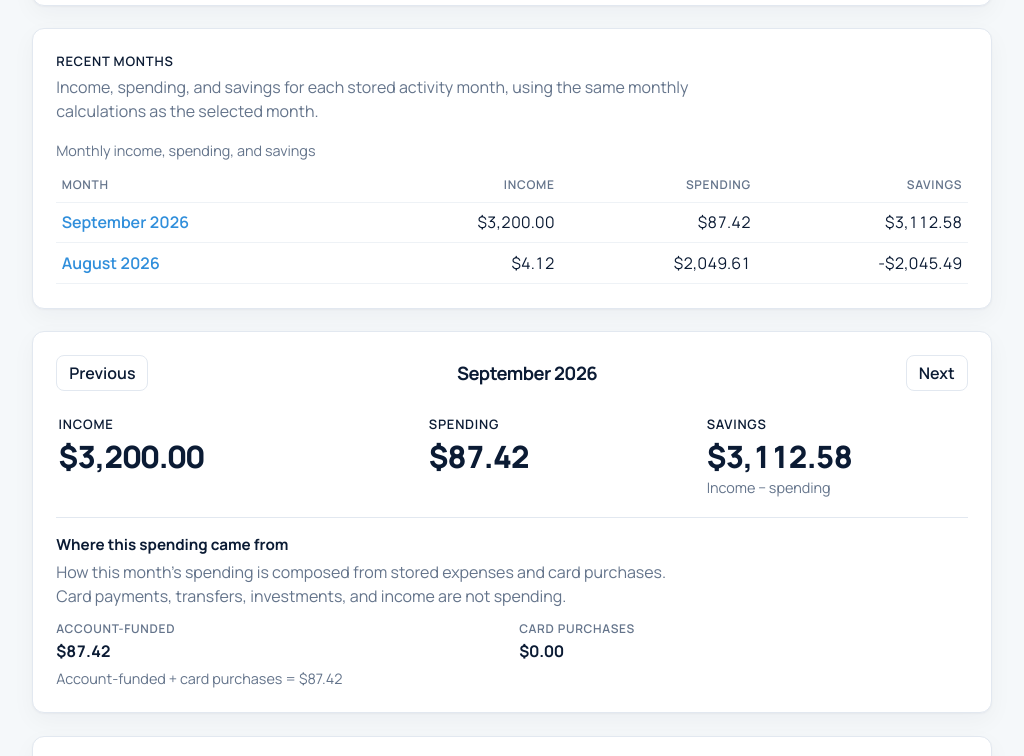
Test case: Finora spending view › moves to the next month and shows zeros when the month is empty
(page scrolled)
Click the button with aria-label "Next month": coordinates (937, 373) [906,355,968,391]
(page scrolled)
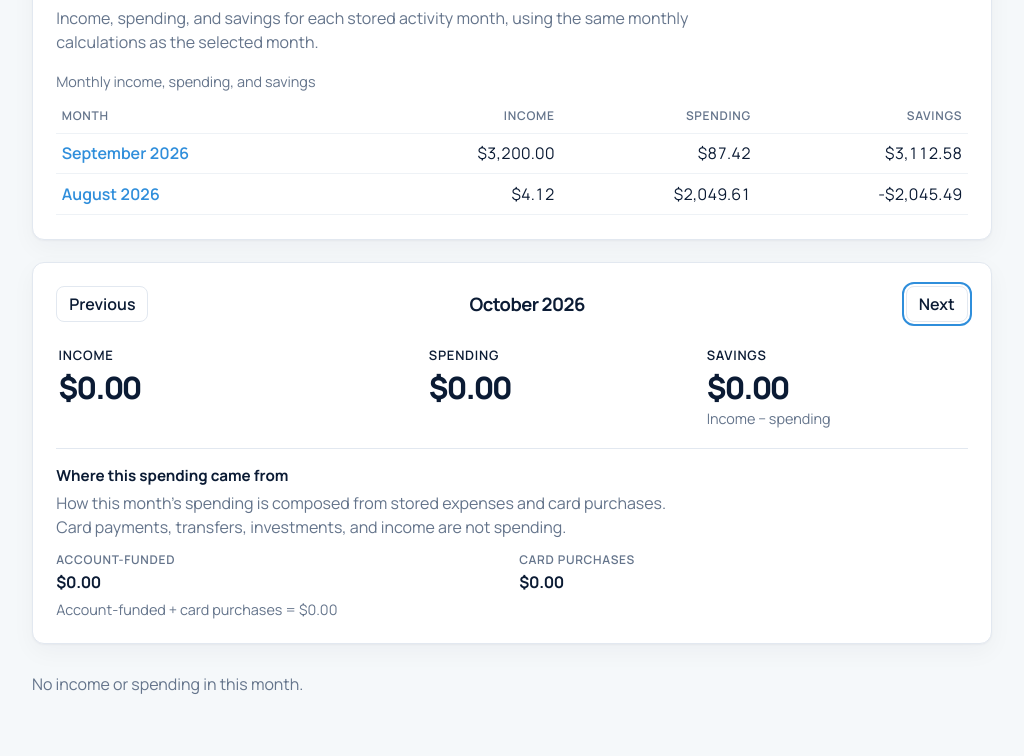
Expected: the heading "October 2026" is shown, [469,291,585,317]
Expected: the text "No income or spending in this month." is shown, [32,674,303,696]
